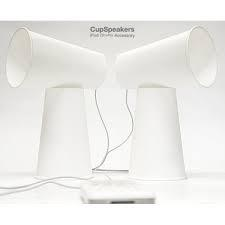Plastic cup: (0, 23, 225, 186)
